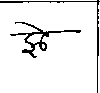e_matra: (11, 21, 48, 31)
